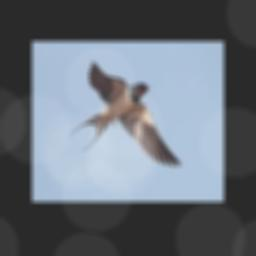Swallow: (70, 61, 183, 166)
